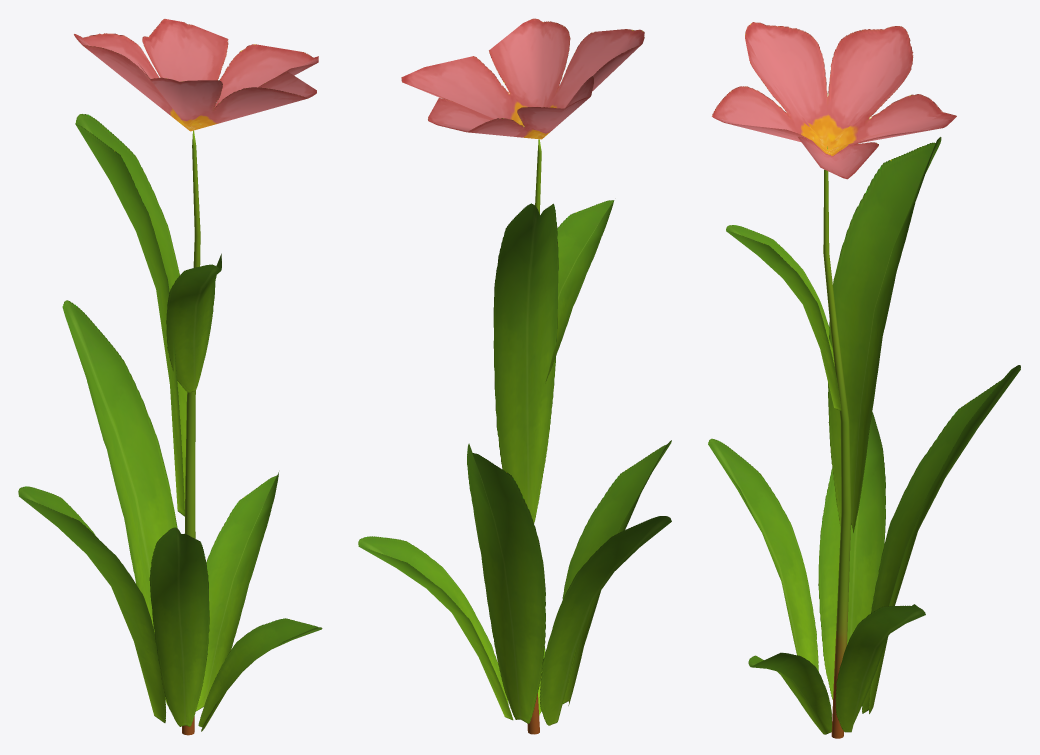
The model's file is Flower_3_Single.gltf.
The picture shows the model from 3 angles, left to right: view 1: azimuth 30°, elevation 25°; view 2: azimuth 150°, elevation 25°; view 3: azimuth 270°, elevation 25°; orthographic projection. The views are drawn at different scales.
Parts seen in each view (by area): view 1: Flower_3_Single; view 2: Flower_3_Single; view 3: Flower_3_Single.
Part boxes in pixels (bbox=[...]): Flower_3_Single: bbox=[18, 19, 322, 735]; Flower_3_Single: bbox=[358, 18, 671, 734]; Flower_3_Single: bbox=[708, 22, 1020, 738].
Bounding box in the file's own units: 0.9066 × 2.07 × 0.8775.
2 materials, 2 textured.
